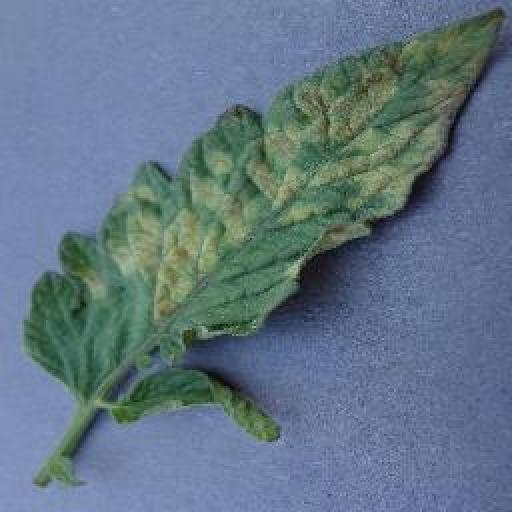disease_tomato: (28, 6, 502, 444)
